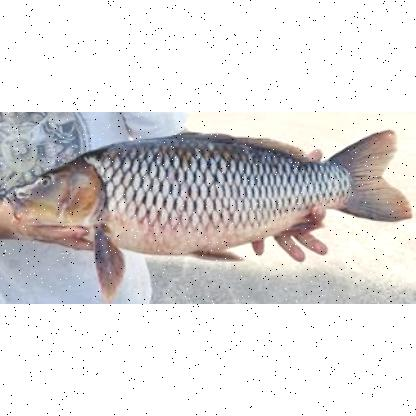ikan-mas: (6, 125, 404, 263)
